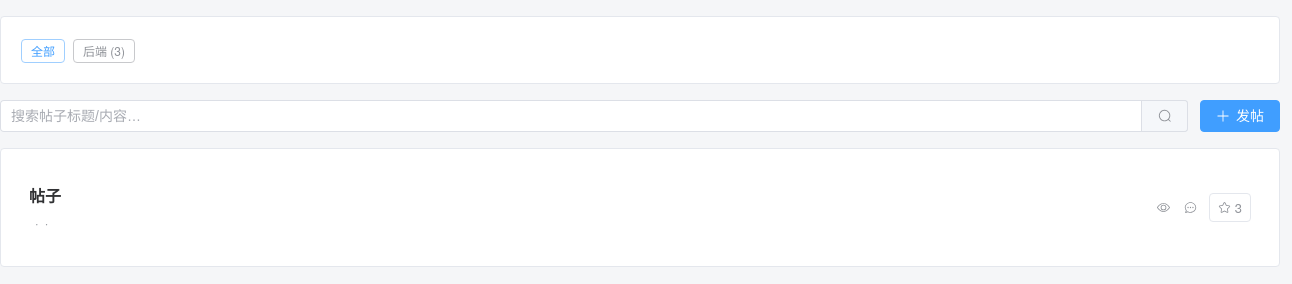
it: HomeView › 点击点赞按钮切换共享状态并刷新计数
Click the button with class "like-btn": [1230, 207] box [1209, 193, 1251, 222]
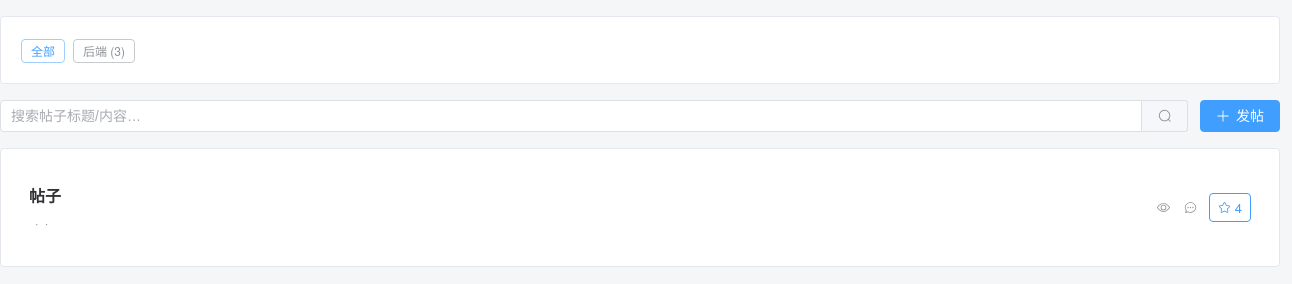
Expected: the button with class "like-btn" reads "4", [1209, 193, 1251, 222]
